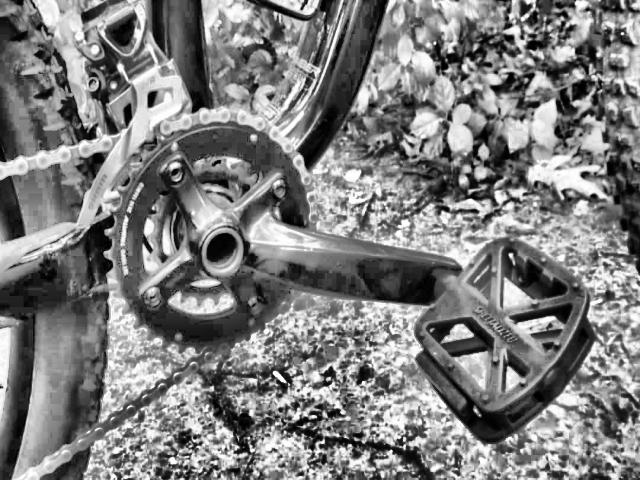cranks_set: (106, 111, 462, 361)
pedal: (412, 230, 598, 448)
